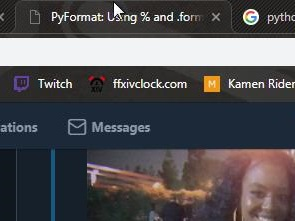cursor: (112, 1, 124, 19)
